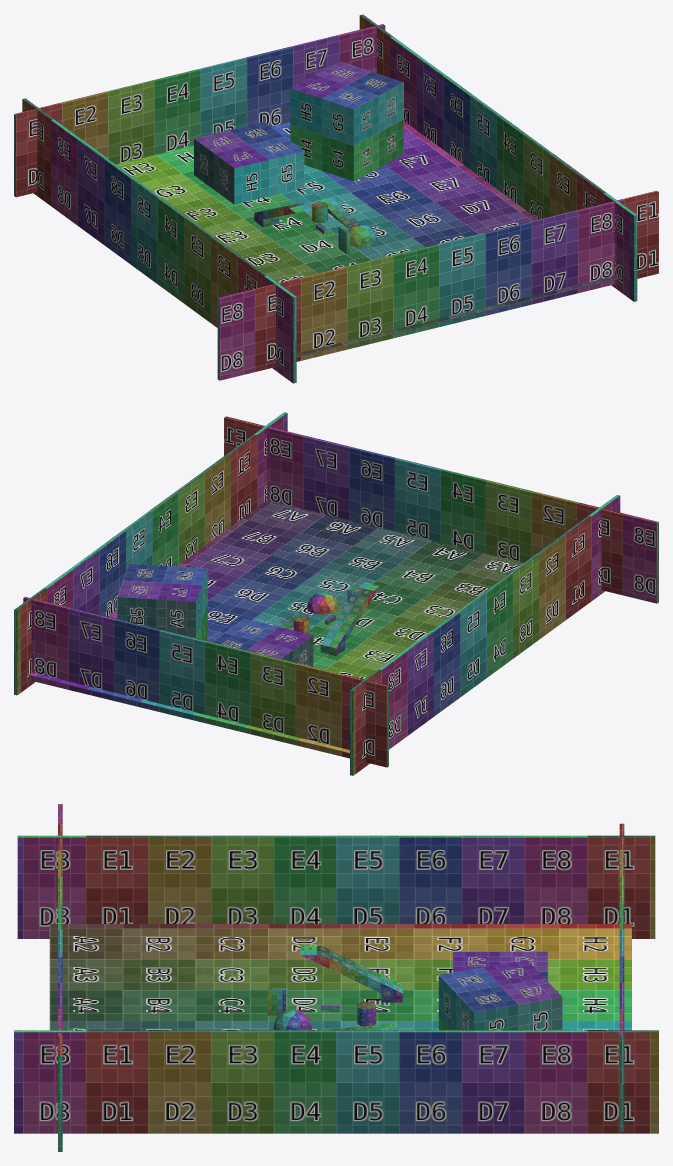
The picture shows the model from 3 angles, top to bottom: view 1: azimuth 30°, elevation 25°; view 2: azimuth 150°, elevation 25°; view 3: azimuth 270°, elevation 25°; orthographic projection. The views are drawn at different scales.
Visible parts, largest first — view 1: longboi.004, Cube, longboi.003, longboi.002, longboi.001, Cube.005, Cube.004, Cube.002, Icosphere; view 2: Cube, longboi.004, longboi.003, longboi.002, longboi.001, Cube.005, Cube.004, Cube.002, Icosphere; view 3: longboi.001, longboi.002, Cube, Cube.005, Cube.002, longboi.003, longboi.004, Cube.004, Icosphere, longboi.
Boxes of the visible parts, x1=… form: longboi.004: x1=217, y1=190, x2=658, y2=380; Cube: x1=116, y1=121, x2=618, y2=357; longboi.003: x1=14, y1=24, x2=385, y2=197; longboi.002: x1=22, y1=98, x2=296, y2=383; longboi.001: x1=359, y1=14, x2=637, y2=301; Cube.005: x1=290, y1=61, x2=403, y2=181; Cube.004: x1=194, y1=121, x2=304, y2=204; Cube.002: x1=254, y1=202, x2=311, y2=227; Icosphere: x1=348, y1=224, x2=377, y2=247; Cube: x1=29, y1=500, x2=523, y2=753; longboi.004: x1=224, y1=416, x2=658, y2=603; longboi.003: x1=23, y1=596, x2=388, y2=767; longboi.002: x1=350, y1=495, x2=620, y2=775; longboi.001: x1=14, y1=412, x2=287, y2=695; Cube.005: x1=117, y1=563, x2=207, y2=640; Cube.004: x1=212, y1=618, x2=313, y2=666; Cube.002: x1=320, y1=582, x2=380, y2=655; Icosphere: x1=307, y1=592, x2=338, y2=614; longboi.001: x1=14, y1=1030, x2=658, y2=1133; longboi.002: x1=17, y1=835, x2=655, y2=938; Cube: x1=49, y1=924, x2=631, y2=1030; Cube.005: x1=438, y1=960, x2=562, y2=1030; Cube.002: x1=300, y1=946, x2=402, y2=1002; longboi.003: x1=619, y1=823, x2=624, y2=1131; longboi.004: x1=58, y1=804, x2=62, y2=1151; Cube.004: x1=453, y1=951, x2=548, y2=981; Icosphere: x1=273, y1=1010, x2=312, y2=1030; longboi: x1=267, y1=988, x2=286, y2=1015.
Bounding box in the file's own units: 1480 × 356 × 1601.
1 material, 1 textured.
